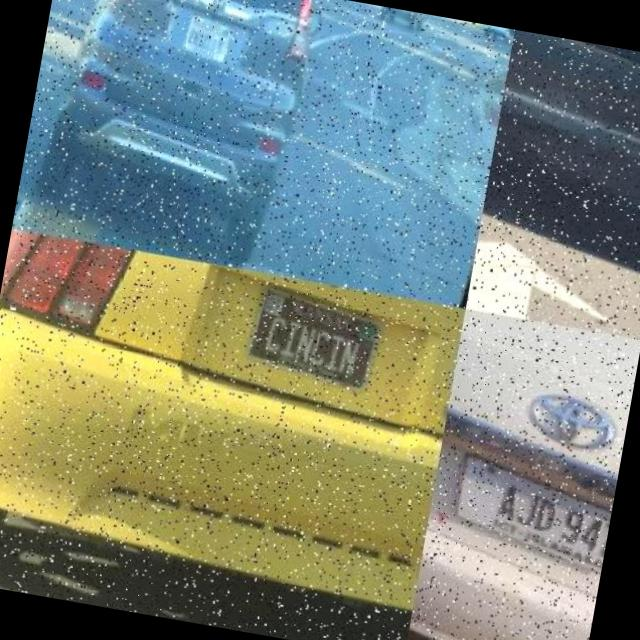LicensePlate: (419, 430, 620, 596), (236, 287, 376, 398), (168, 8, 234, 70), (389, 8, 401, 15)
